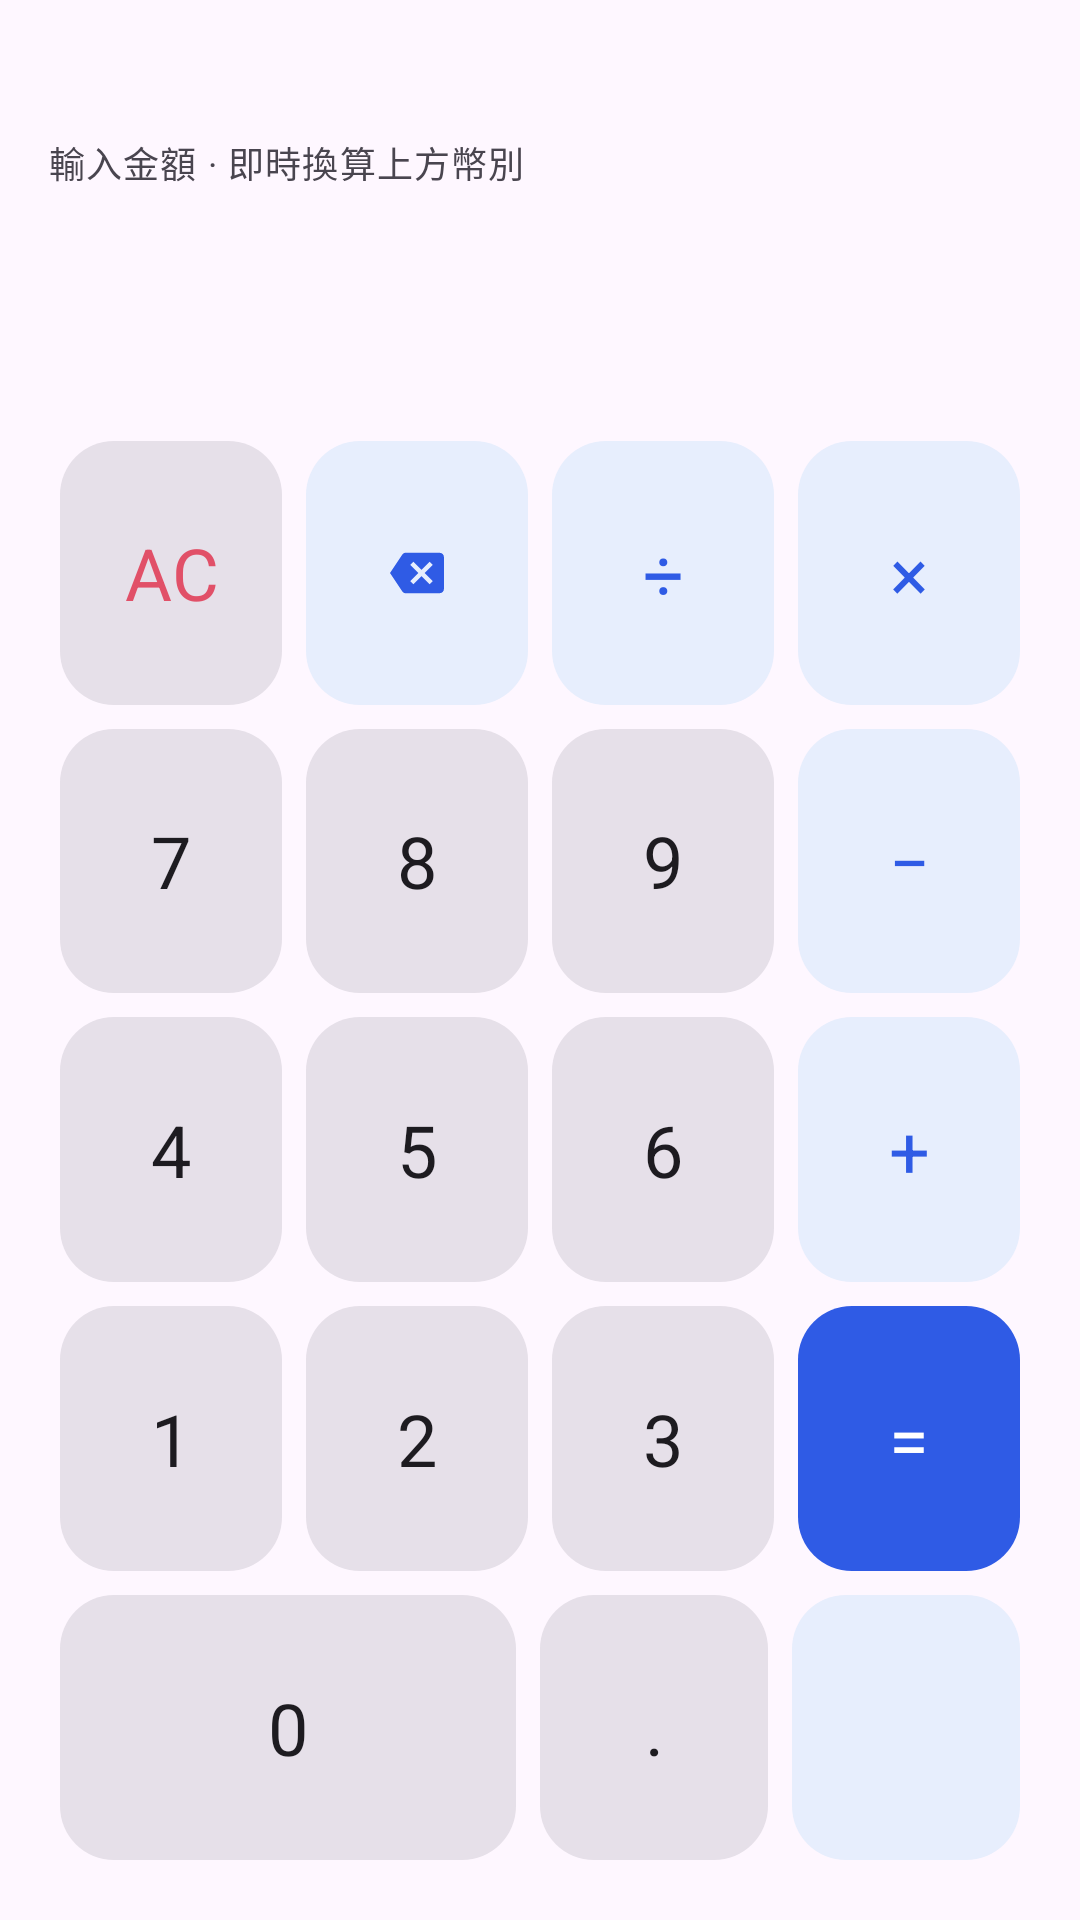

Named icons in this screenshot (1080*1920) and their bounding boxes, (x1, y1, x2, y2):
退格: (390, 552, 444, 594)
